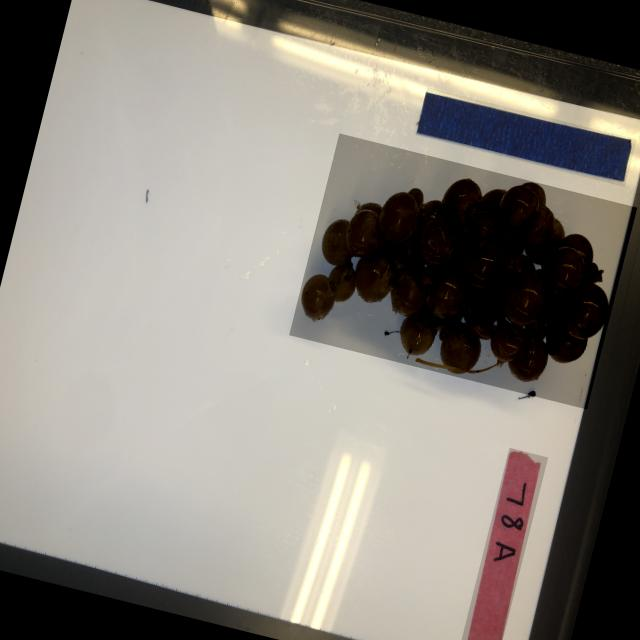grape_cluster: (288, 133, 636, 409)
index: (457, 447, 547, 640)
measure_label: (414, 86, 635, 186)
